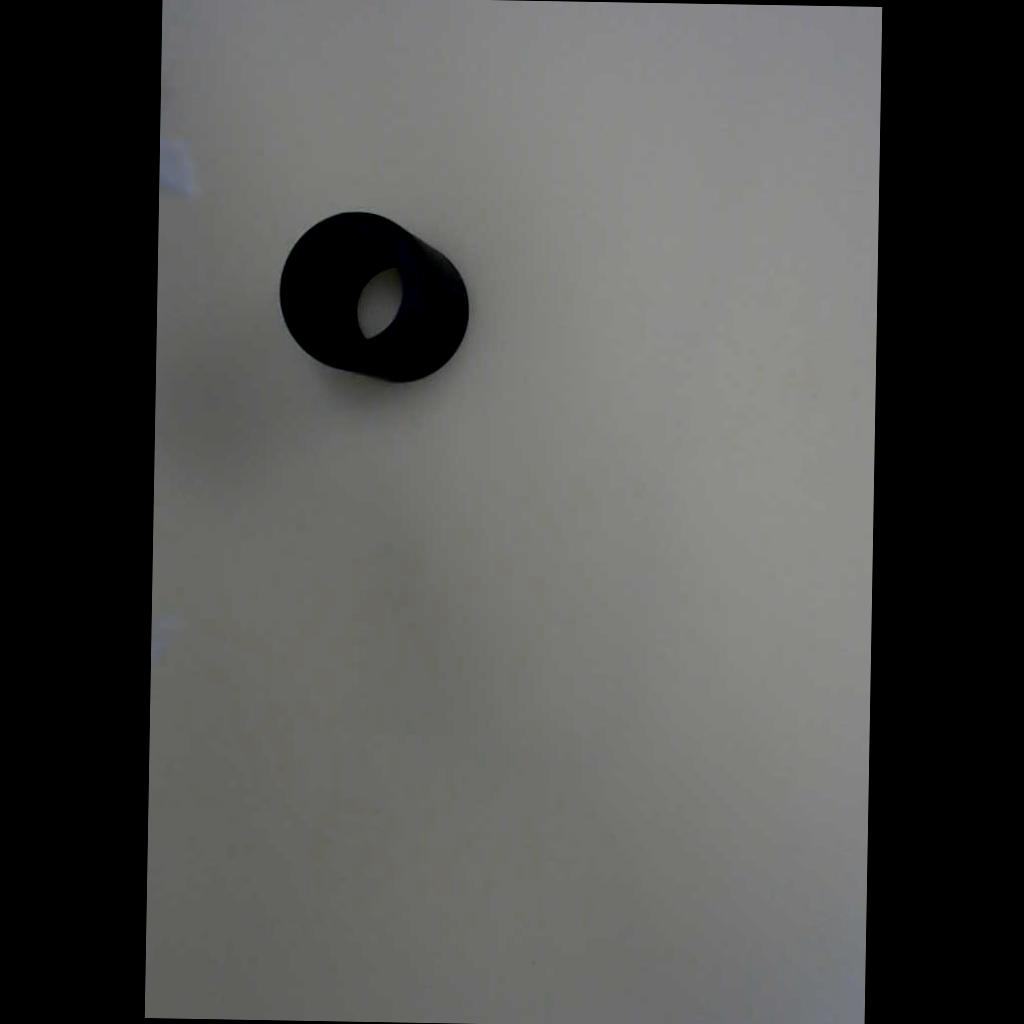ring: (271, 199, 477, 397)
